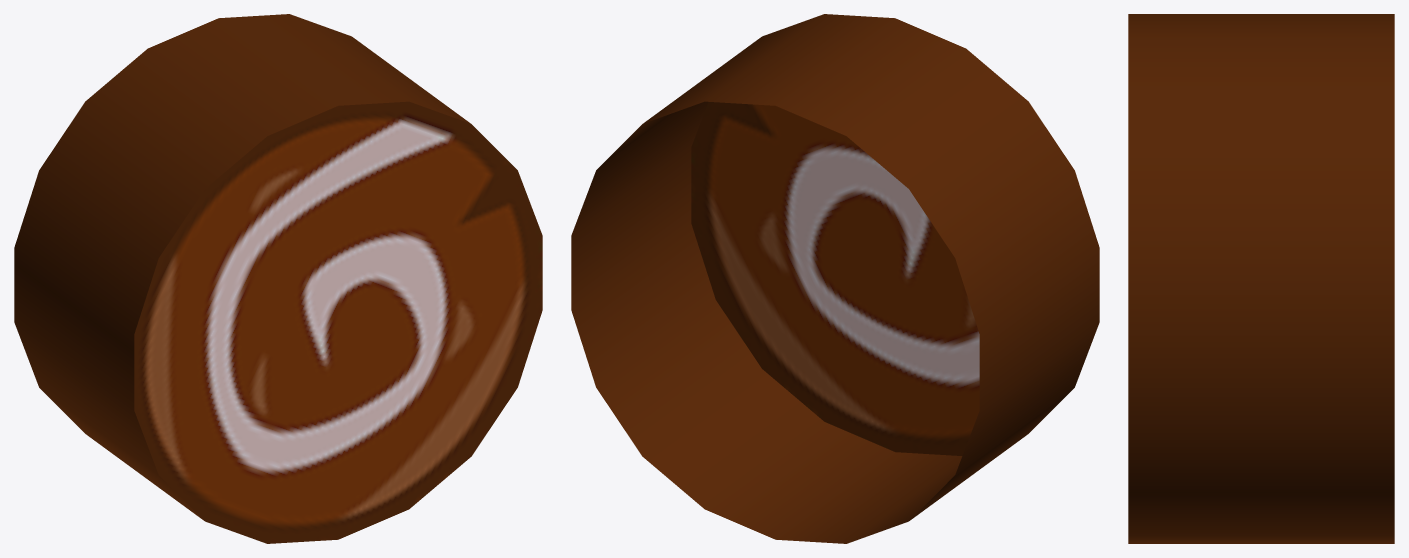
The model's file is Node_Brown.fbx.
3 views of the same model, side by side, from view 1: azimuth 30°, elevation 25°; view 2: azimuth 150°, elevation 25°; view 3: azimuth 270°, elevation 25° (orthographic). The views are drawn at different scales.
Parts seen in each view (by area): view 1: pCylinder31; view 2: pCylinder31; view 3: pCylinder31.
Boxes of the visible parts, bbox=[...] form: pCylinder31: bbox=[14, 14, 542, 543]; pCylinder31: bbox=[571, 14, 1099, 543]; pCylinder31: bbox=[1128, 14, 1394, 543].
Bounding box in the file's own units: 29.5 × 29.95 × 14.98.
Materials: 1 (1 with a texture image).
